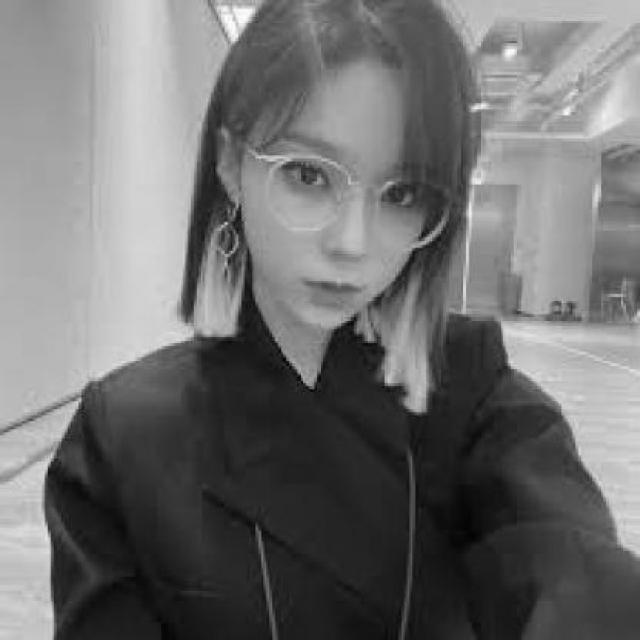Glasses: (203, 109, 462, 254)
